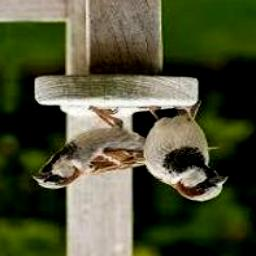Sparrow: (30, 107, 218, 190), (138, 107, 229, 203)
